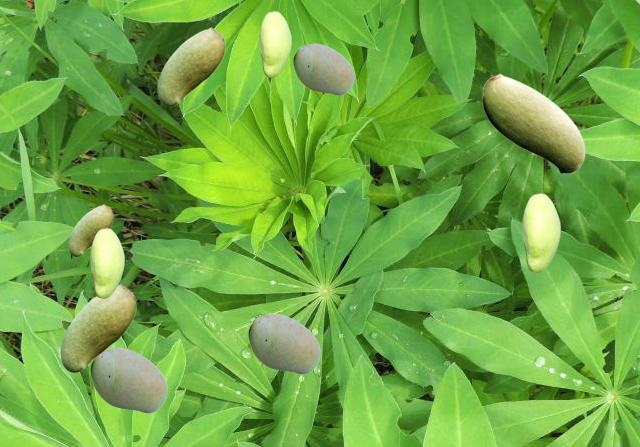green_mango: (482, 73, 584, 173), (60, 284, 135, 371), (157, 27, 224, 105), (90, 347, 166, 412), (248, 313, 319, 373), (293, 43, 353, 94), (522, 193, 559, 271), (90, 228, 123, 297), (68, 204, 112, 255), (259, 11, 290, 76)
